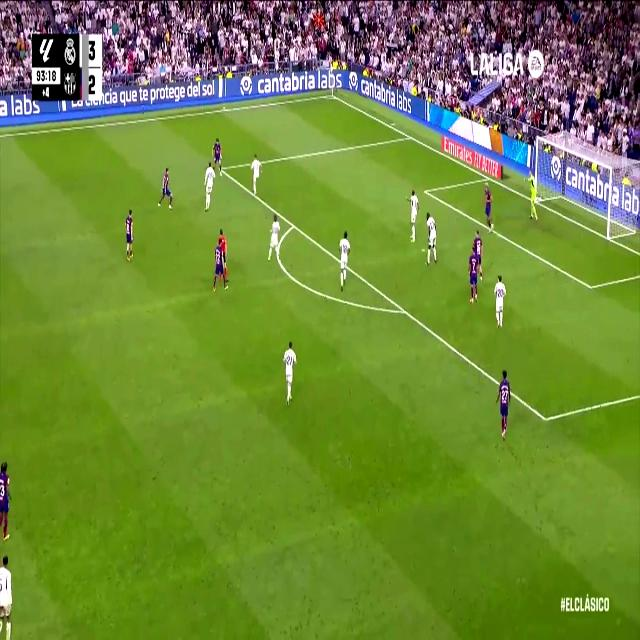bigarea_bottom_inner: (539, 403, 551, 433)
bigarea_top_outter: (405, 128, 414, 143)
bottom_arc_area_intersection: (398, 299, 409, 320)
corner: (328, 90, 336, 100)
smallarea_bottom_inner: (586, 276, 595, 297)
smallarea_top_inner: (421, 182, 429, 198)
top_arc_area_intersection: (289, 216, 298, 233)
